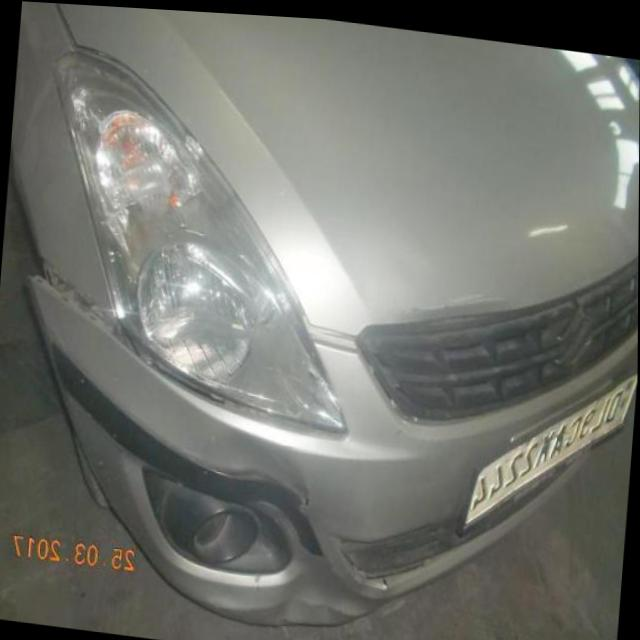Car-Damage: (21, 262, 307, 428), (184, 427, 396, 632)
